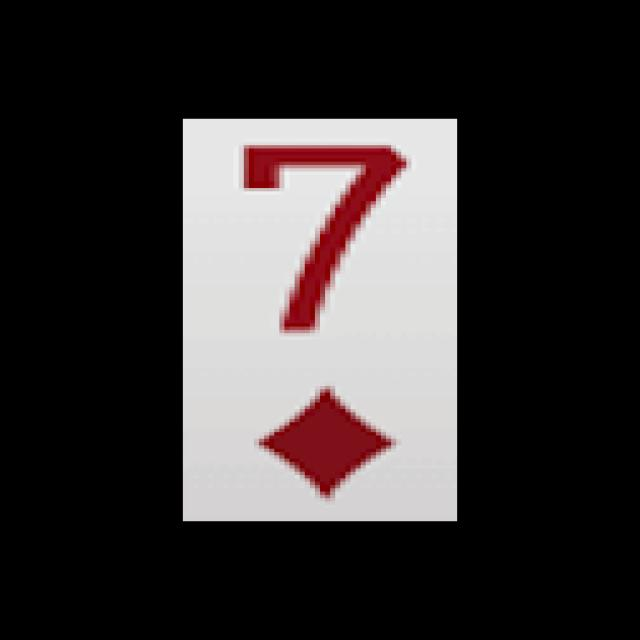7D: (213, 136, 426, 510)
